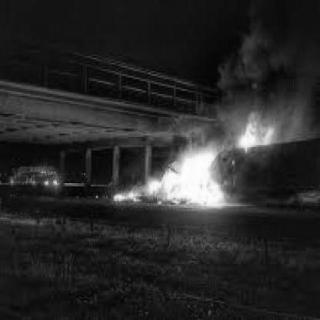Fire: (234, 110, 276, 150)
